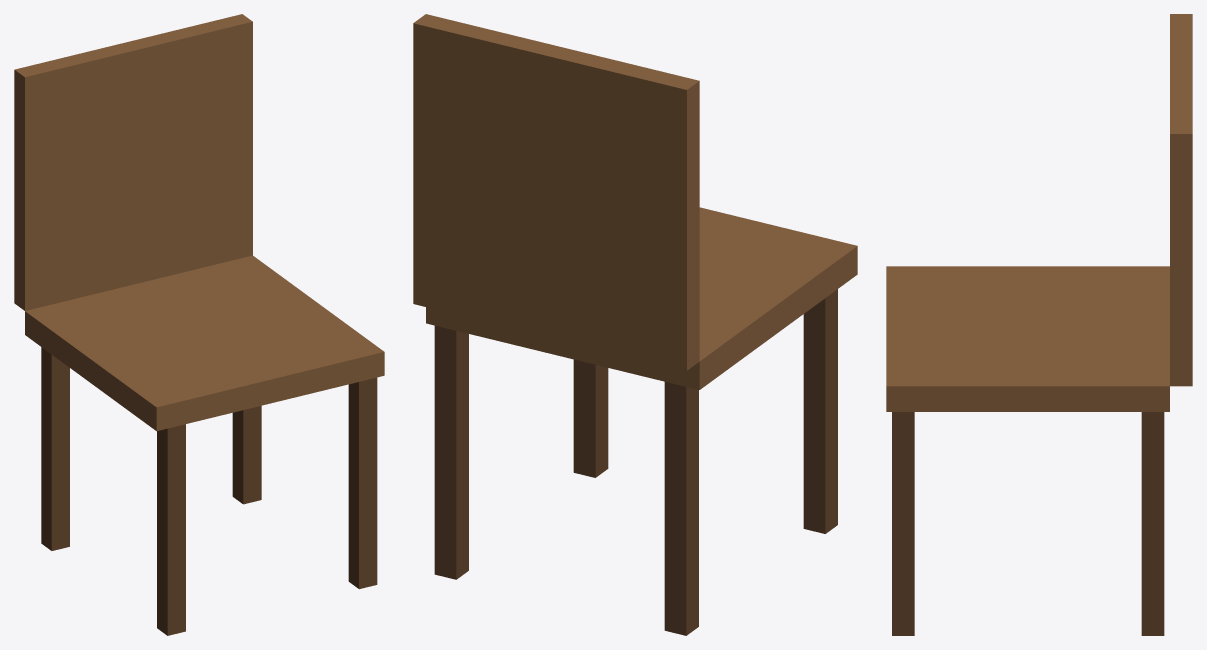
The model's file is SM_Prop_Chair_01.glb.
The picture shows the model from 3 angles, left to right: view 1: azimuth 30°, elevation 25°; view 2: azimuth 150°, elevation 25°; view 3: azimuth 270°, elevation 25°; orthographic projection. The views are drawn at different scales.
Visible parts, largest first — view 1: SM_Prop_Chair_01; view 2: SM_Prop_Chair_01; view 3: SM_Prop_Chair_01.
Boxes of the visible parts, x1,y1,x2,y2 form: SM_Prop_Chair_01: (14, 14, 384, 635); SM_Prop_Chair_01: (413, 14, 857, 635); SM_Prop_Chair_01: (886, 14, 1192, 635).
Bounding box in the file's own units: 0.5 × 0.98 × 0.54.
Materials: 1 (1 with a texture image).
